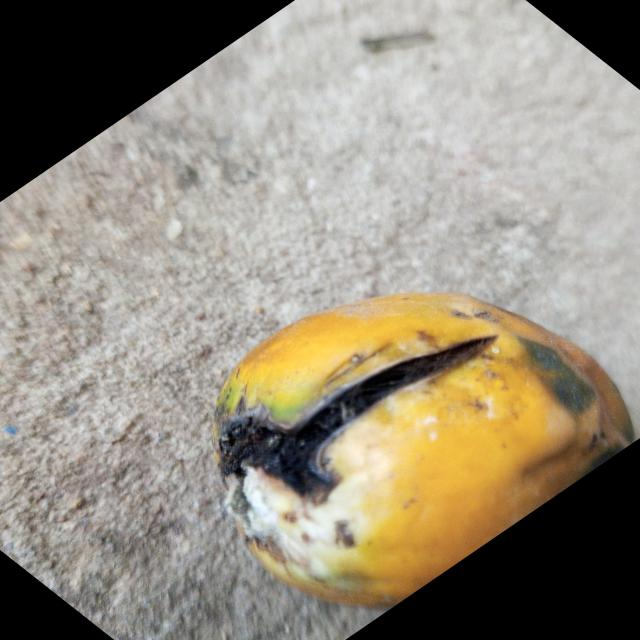damaged: (215, 292, 640, 612)
